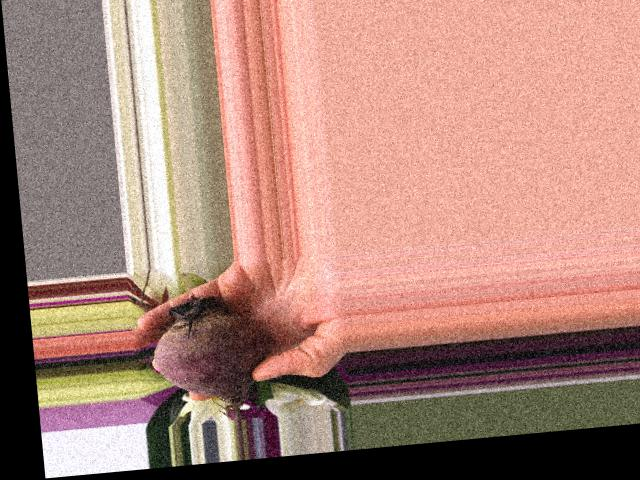beet: (147, 287, 273, 427)
